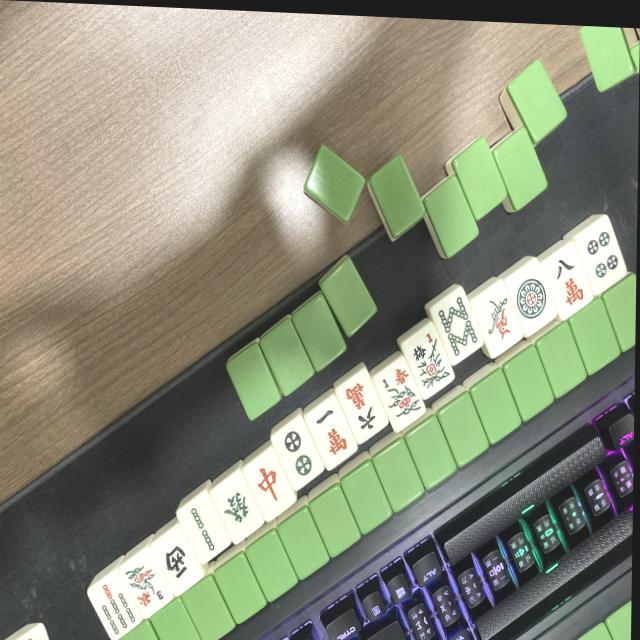f1: (400, 324, 458, 401)
fa: (210, 470, 267, 544)
ff1: (370, 358, 428, 432)
ff3: (119, 551, 177, 621)
m1: (304, 397, 363, 472)
m6: (333, 368, 391, 444)
m8: (539, 242, 597, 319)
s1: (469, 280, 526, 355)
s2: (176, 493, 235, 565)
s7: (85, 570, 144, 640)
s8: (428, 289, 486, 367)
t1: (501, 260, 560, 339)
t2: (268, 414, 327, 491)
t4: (573, 215, 630, 292)
west: (149, 527, 204, 598)
zhong: (242, 447, 299, 522)
